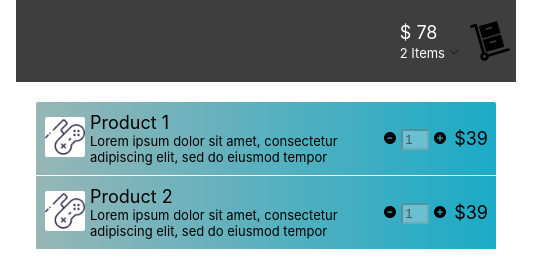
Test: Header component › renders component with current items in cart on click of arrow in header
The width and height of the screenshot is (533, 266).
Click the button with test id "cart-items-button" at (452, 52), box [445,42,460,60]
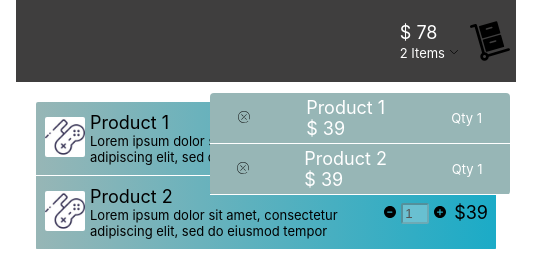
Expected: the element with test id "cart-items-list" is shown, [210,92,510,194]
